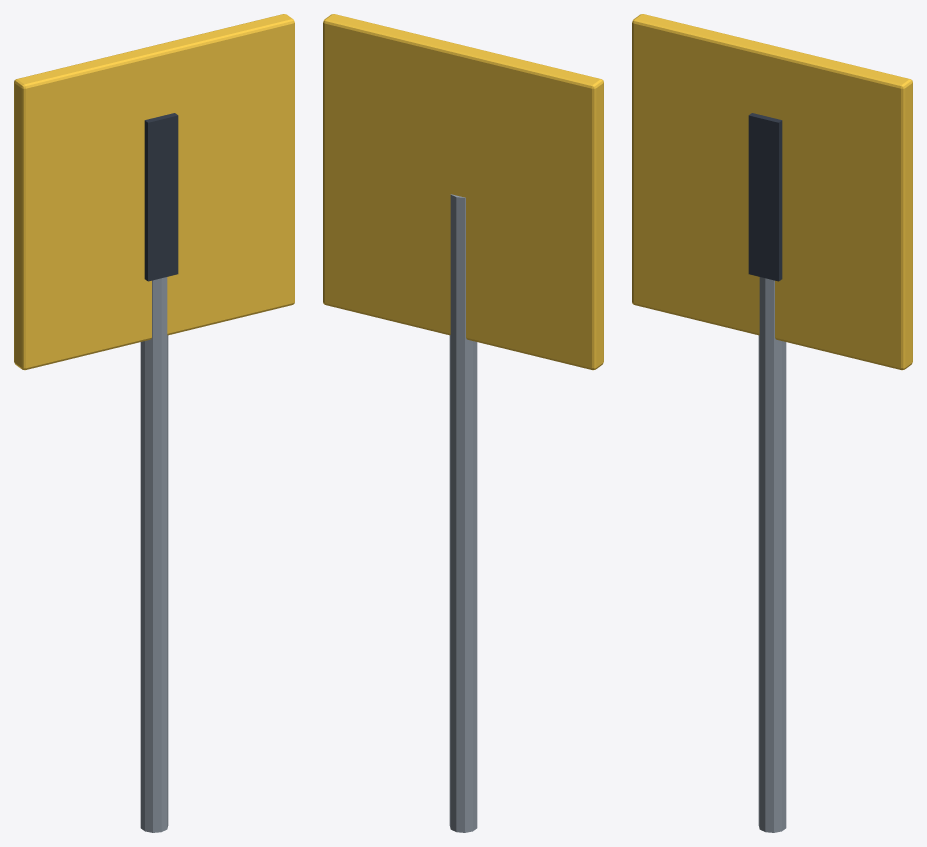
Rendered from Longboarding_Sign.fbx.
The picture shows the model from 3 angles, left to right: view 1: azimuth 30°, elevation 25°; view 2: azimuth 150°, elevation 25°; view 3: azimuth 330°, elevation 25°; orthographic projection.
Parts seen in each view (by area): view 1: Sign; view 2: Sign; view 3: Sign.
Part boxes in pixels (x1,y1,x2,y2): Sign: (14, 14, 294, 832); Sign: (323, 14, 603, 832); Sign: (632, 14, 912, 832).
Size of the model in its own units: 0.9 by 2.45 by 0.09.
